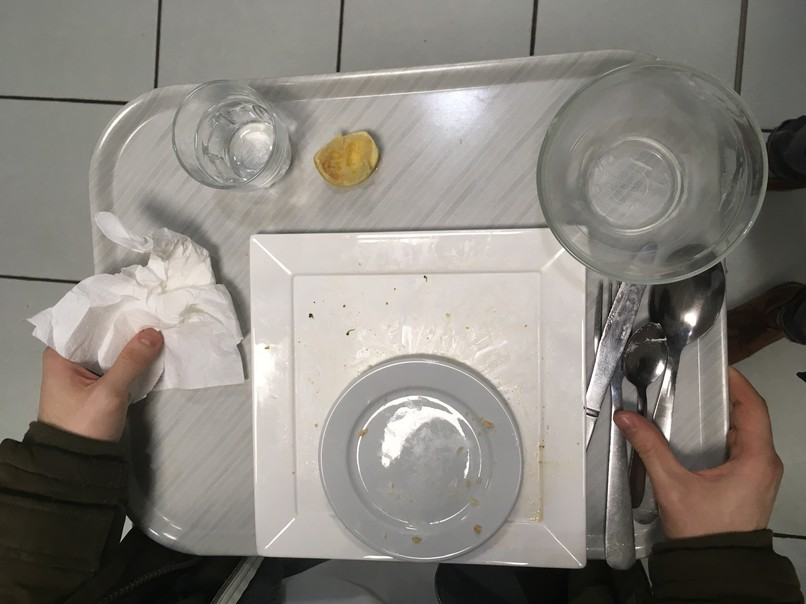cup: (153, 73, 303, 200)
cutlery: (587, 254, 724, 562)
orga: (309, 122, 385, 192)
trash: (37, 224, 248, 393)
